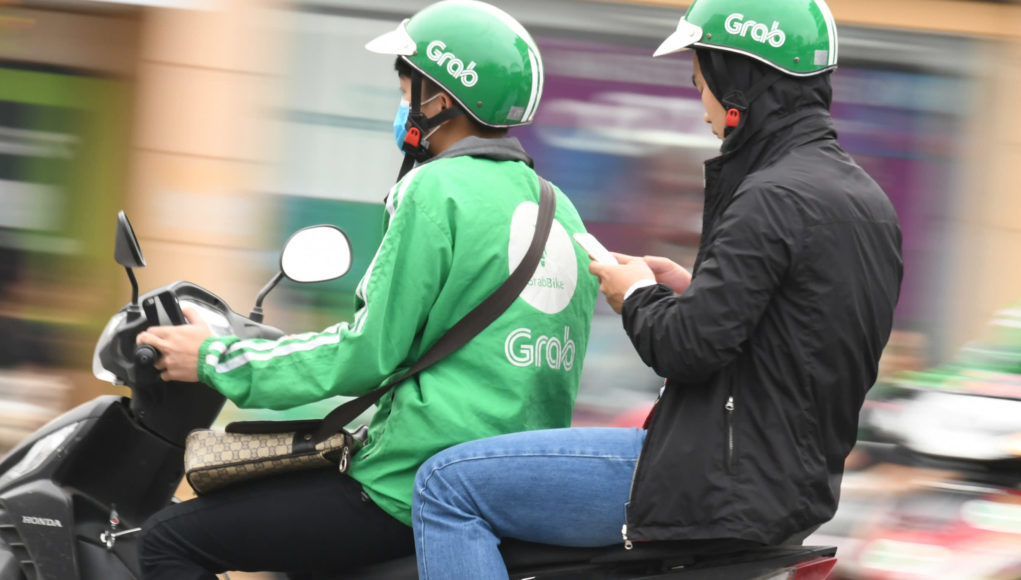dieu khien xe may: (4, 1, 524, 534)
su dung dien thoai: (572, 1, 827, 304)
